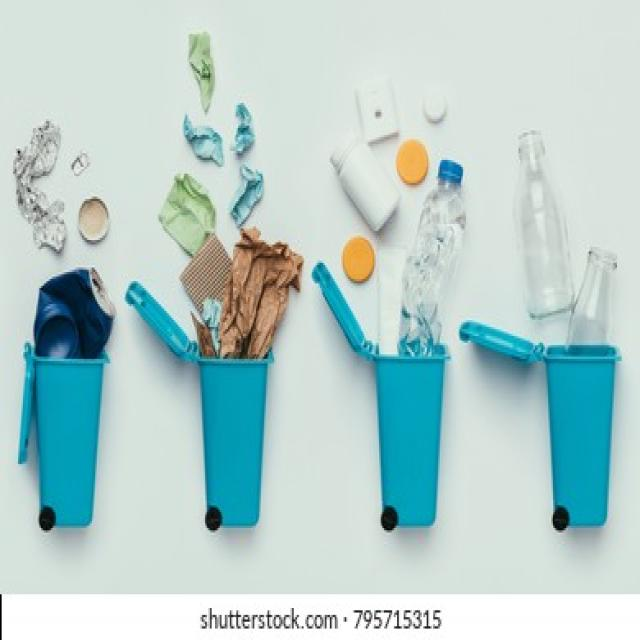glass: (533, 169, 609, 338)
metal: (43, 270, 110, 361)
paper: (233, 251, 281, 352)
plastic: (414, 190, 454, 331)
